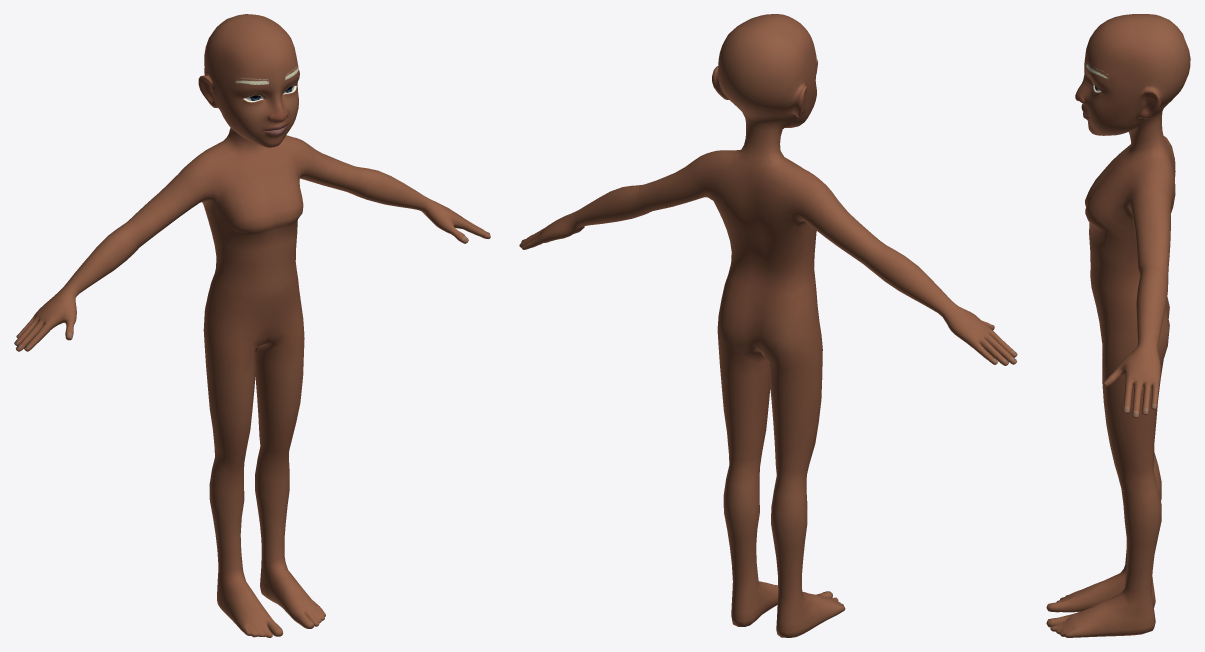
File: frame_0051.glb
3 views of the same model, side by side, from view 1: azimuth 30°, elevation 25°; view 2: azimuth 150°, elevation 25°; view 3: azimuth 270°, elevation 25° (orthographic). The views are drawn at different scales.
Parts seen in each view (by area): view 1: frame_0051_head_geo; view 2: frame_0051_head_geo; view 3: frame_0051_head_geo.
Part boxes in pixels (box(x1,y1,x2,y2)): frame_0051_head_geo: box(14, 14, 490, 637); frame_0051_head_geo: box(519, 14, 1017, 637); frame_0051_head_geo: box(1046, 14, 1190, 637).
Bounding box in the file's own units: 1.28 × 1.5 × 0.3253.
3 materials, 3 textured.
